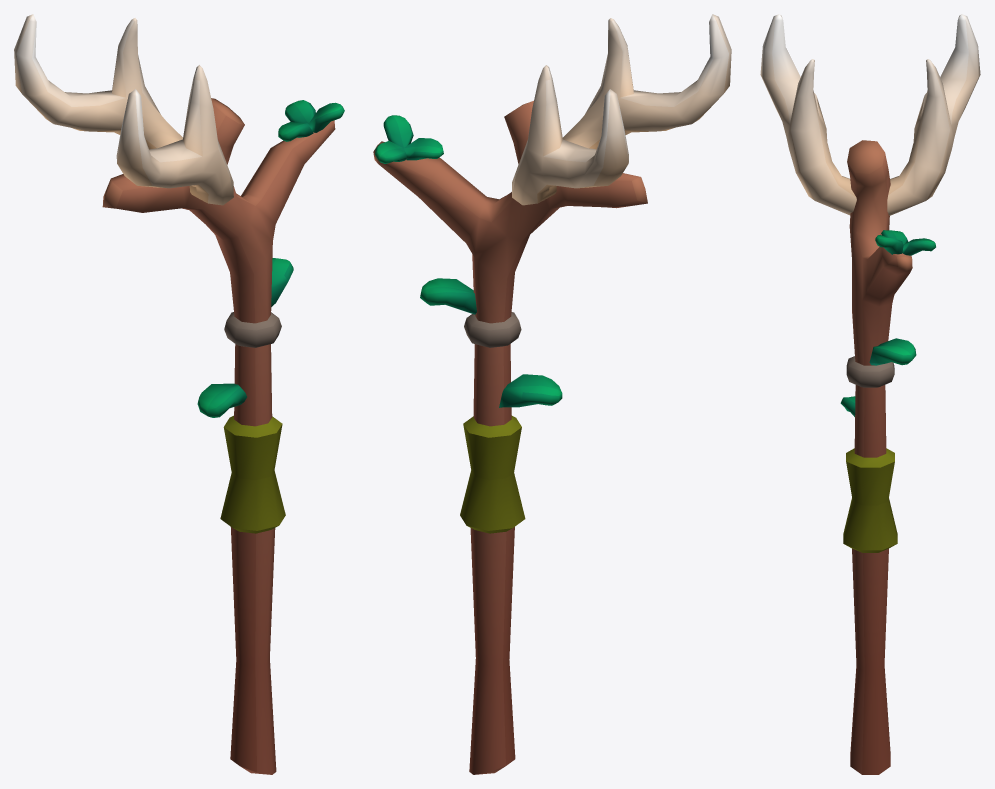
The model's file is Druid_Staff.glb.
3 renders of one model, left to right at view 1: azimuth 30°, elevation 25°; view 2: azimuth 150°, elevation 25°; view 3: azimuth 270°, elevation 25°, orthographic. The views are drawn at different scales.
Visible parts, largest first — view 1: druid_staff; view 2: druid_staff; view 3: druid_staff.
Part boxes in pixels (x1,y1,x2,y2): druid_staff: [14, 14, 344, 774]; druid_staff: [373, 14, 731, 774]; druid_staff: [760, 14, 980, 774].
Bounding box in the file's own units: 0.8741 × 2.26 × 0.6621.
Materials: 1 (1 with a texture image).
